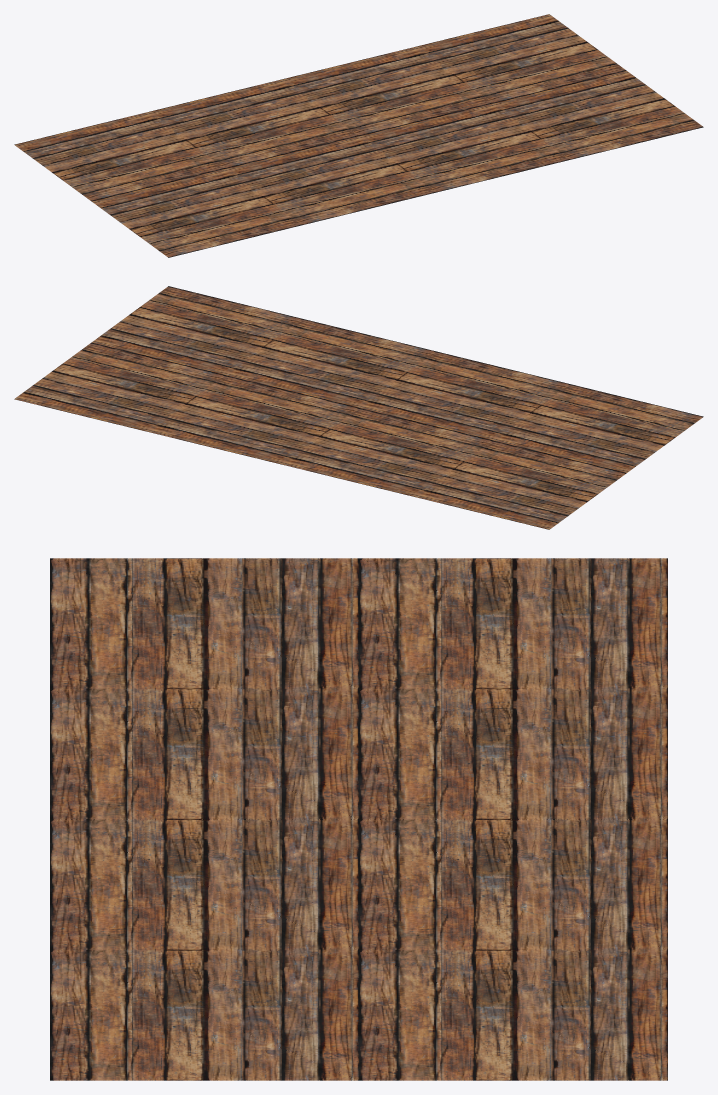
The model's file is wood.glb.
3 views of the same model, one above another, from view 1: azimuth 30°, elevation 25°; view 2: azimuth 150°, elevation 25°; view 3: azimuth 270°, elevation 25° (orthographic). The views are drawn at different scales.
Parts seen in each view (by area): view 1: Plane; view 2: Plane; view 3: Plane.
Boxes of the visible parts, x1=… form: Plane: x1=14, y1=14, x2=703, y2=257; Plane: x1=14, y1=286, x2=703, y2=529; Plane: x1=50, y1=558, x2=667, y2=1080.
Bounding box in the file's own units: 8 × 8.88e-16 × 4.
Materials: 1 (1 with a texture image).
